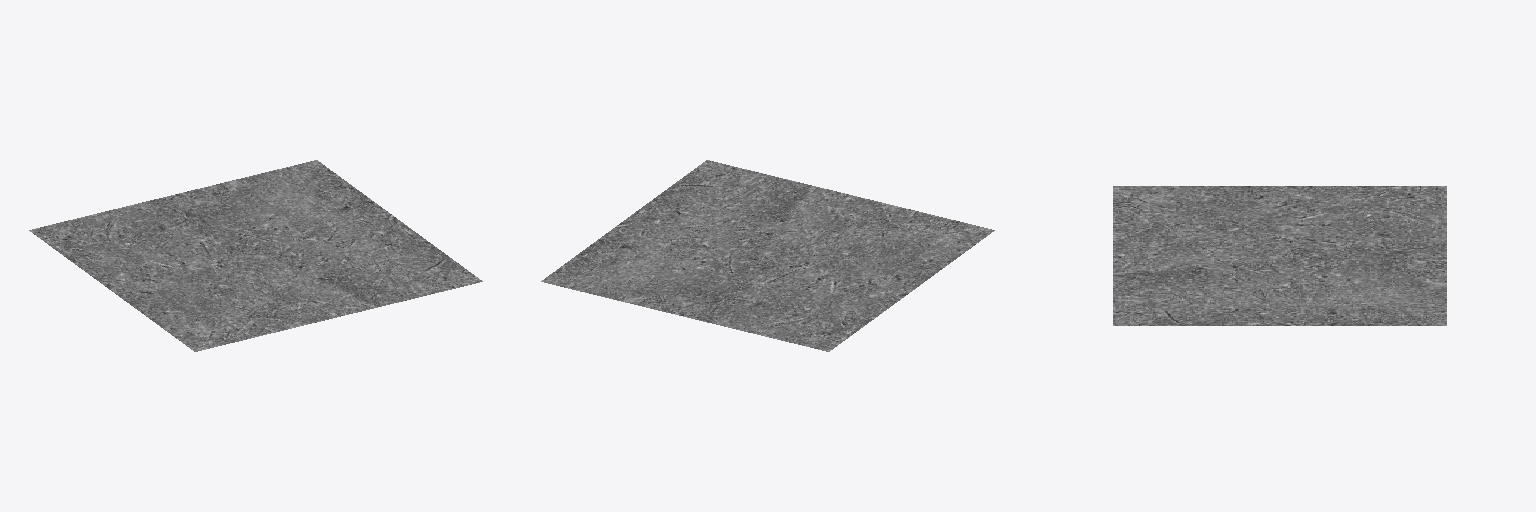
3 views of the same model, side by side, from view 1: azimuth 30°, elevation 25°; view 2: azimuth 150°, elevation 25°; view 3: azimuth 270°, elevation 25° (orthographic).
Visible parts, largest first — view 1: 平面; view 2: 平面; view 3: 平面.
Part boxes in pixels (x1,y1,x2,y2): 平面: (29,160,482,351); 平面: (541,160,994,351); 平面: (1113,186,1446,325).
Size of the model in its own units: 200 by 0 by 200.
Materials: 1 (1 with a texture image).